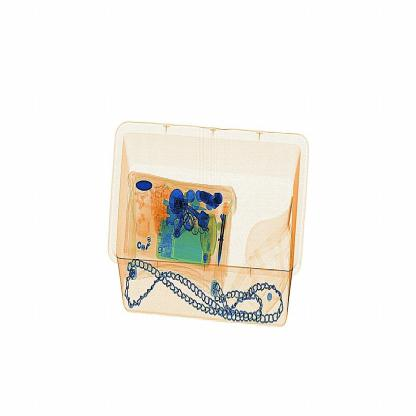gun: (213, 194, 240, 277)
